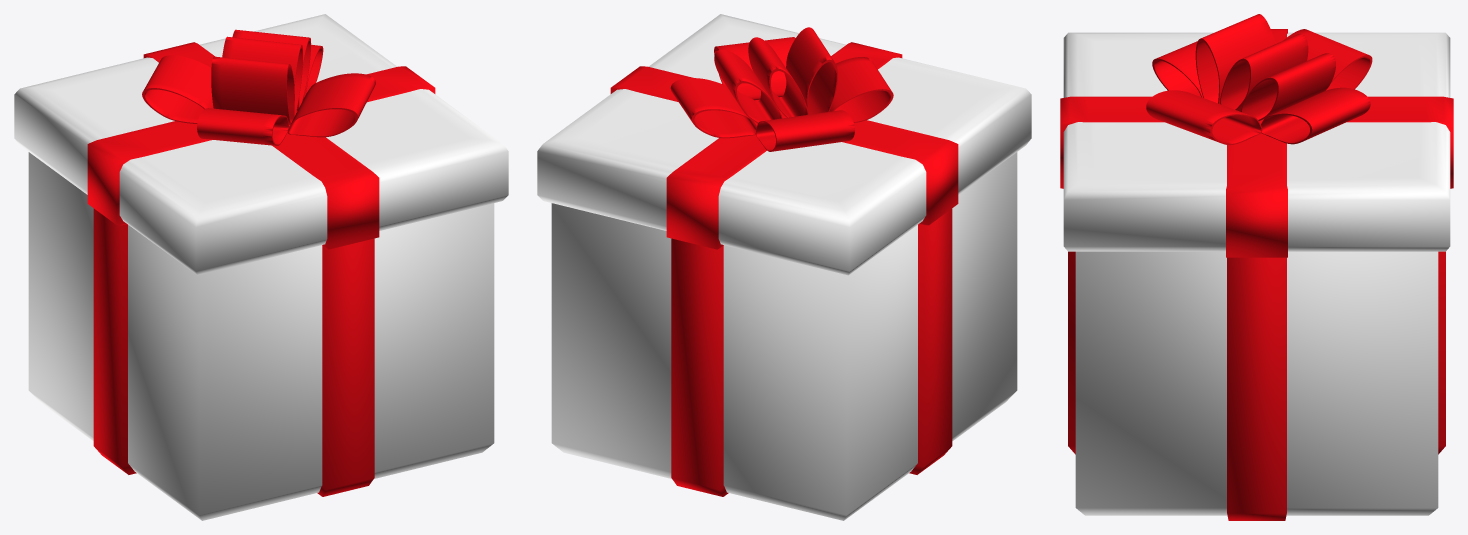
The model's file is present_v2.glb.
The picture shows the model from 3 angles, left to right: view 1: azimuth 30°, elevation 25°; view 2: azimuth 150°, elevation 25°; view 3: azimuth 270°, elevation 25°; orthographic projection. The views are drawn at different scales.
Visible parts, largest first — view 1: Cube, Cube.005, Cube.001, Cube.002, Cube.004, Cube.003, Cylinder.005, Cylinder.003, Cylinder.001, Cylinder, Cylinder.006, Cylinder.004; view 2: Cube, Cube.005, Cube.001, Cube.002, Cube.004, Cube.003, Cylinder.002, Cylinder.005, Cylinder.001, Cylinder, Cylinder.004, Cylinder.006 (+1 smaller); view 3: Cube, Cube.005, Cube.002, Cube.003, Cube.004, Cylinder.003, Cylinder.002, Cylinder.005, Cylinder.004, Cube.001, Cylinder.006, Cylinder.001 (+1 smaller).
Boxes of the visible parts, box(x1,y1,x2,y2) form: Cube: box(28, 152, 494, 520); Cube.005: box(14, 14, 508, 275); Cube.001: box(317, 238, 374, 496); Cube.002: box(93, 208, 136, 474); Cube.004: box(143, 42, 379, 249); Cube.003: box(87, 66, 435, 225); Cylinder.005: box(211, 56, 294, 124); Cylinder.003: box(287, 73, 375, 137); Cylinder.001: box(142, 55, 213, 123); Cylinder: box(197, 108, 288, 145); Cylinder.006: box(222, 36, 302, 115); Cylinder.004: box(232, 29, 311, 110); Cube: box(551, 152, 1017, 520); Cube.005: box(537, 14, 1031, 275); Cube.001: box(671, 238, 728, 496); Cube.002: box(909, 208, 952, 474); Cube.004: box(666, 42, 902, 249); Cube.003: box(610, 66, 958, 225); Cylinder.002: box(670, 78, 756, 138); Cylinder.005: box(786, 27, 837, 114); Cylinder.001: box(756, 110, 854, 151); Cylinder: box(829, 57, 893, 122); Cylinder.004: box(714, 49, 782, 123); Cylinder.006: box(748, 37, 808, 117); Cube: box(1075, 251, 1438, 515); Cube.005: box(1063, 32, 1450, 251); Cube.002: box(1227, 257, 1286, 520); Cube.003: box(1226, 29, 1287, 257); Cube.004: box(1060, 96, 1453, 188); Cylinder.003: box(1146, 90, 1262, 145); Cylinder.002: box(1261, 87, 1370, 144); Cylinder.005: box(1195, 14, 1275, 103); Cylinder.004: box(1241, 53, 1335, 121); Cube.001: box(1068, 251, 1445, 454); Cylinder.006: box(1220, 33, 1308, 111); Cylinder.001: box(1283, 29, 1372, 90).
Bounding box in the file's own units: 2.27 × 2.61 × 2.29.
